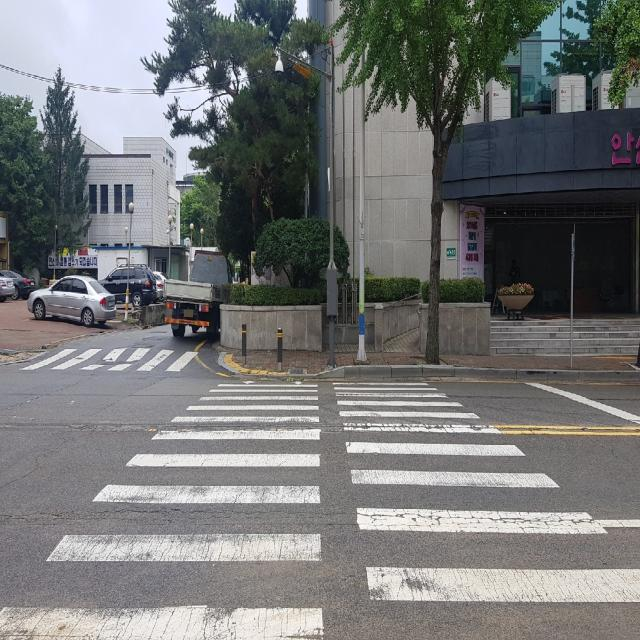횡단보도: (0, 380, 640, 640), (18, 332, 212, 374)
